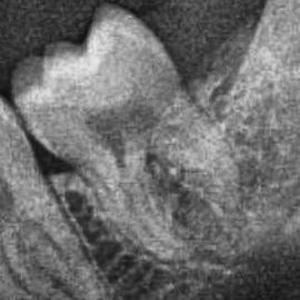tooth: (14, 10, 237, 275)
